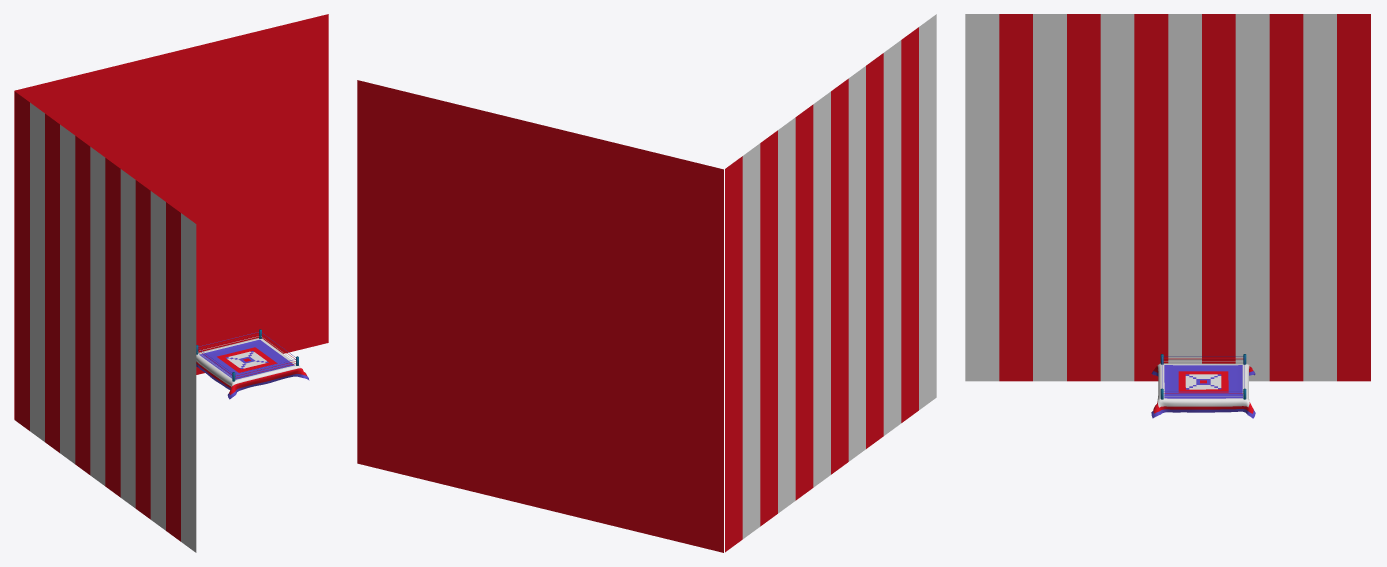
The model's file is BoxingRing.fbx.
The picture shows the model from 3 angles, left to right: view 1: azimuth 30°, elevation 25°; view 2: azimuth 150°, elevation 25°; view 3: azimuth 270°, elevation 25°; orthographic projection. The views are drawn at different scales.
Visible parts, largest first — view 1: Plane.001, Plane, Cloth; view 2: Plane, Plane.001; view 3: Plane.001, Cloth.
Part boxes in pixels (left/top/right/bottom): Plane.001: left=14, top=91, right=196, bottom=552; Plane: left=14, top=14, right=328, bottom=419; Cloth: left=196, top=338, right=309, bottom=399; Plane: left=357, top=80, right=723, bottom=552; Plane.001: left=725, top=14, right=936, bottom=552; Plane.001: left=965, top=14, right=1370, bottom=381; Cloth: left=1151, top=363, right=1255, bottom=418.
Bounding box in the file's own units: 9856 × 9845 × 9884.
